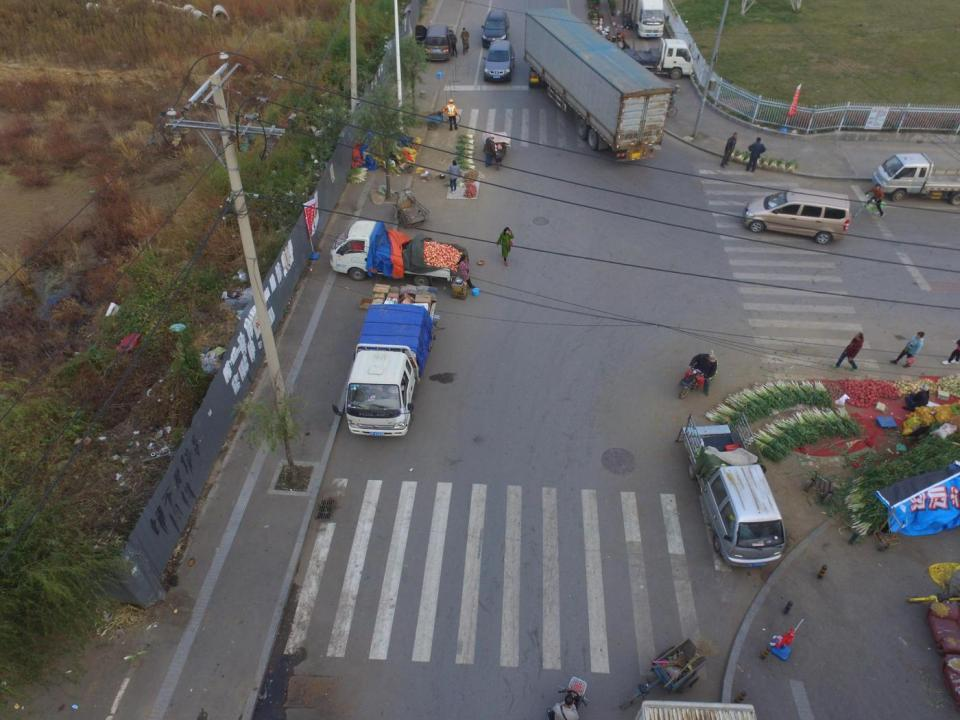car: (483, 40, 515, 83), (480, 10, 510, 48)
truck: (523, 8, 672, 163), (676, 413, 788, 567), (332, 283, 437, 438), (330, 219, 467, 288), (873, 152, 960, 206), (601, 38, 700, 80), (624, 0, 665, 38)
van: (743, 188, 850, 245), (415, 23, 452, 61)
